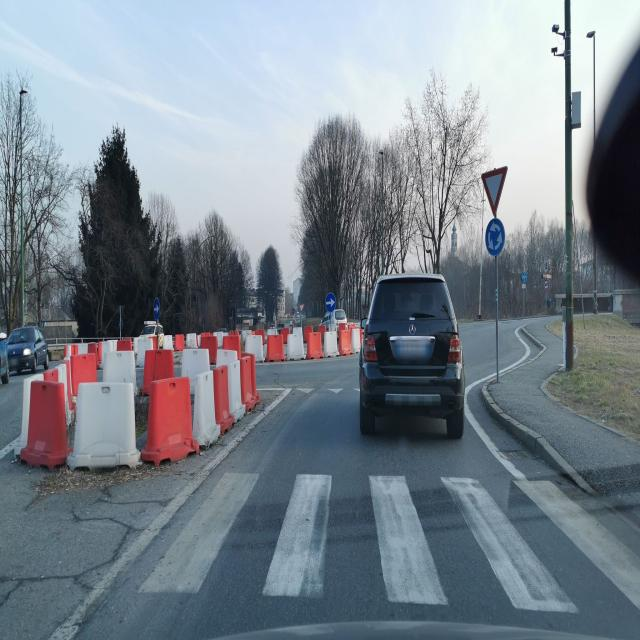car: (358, 272, 466, 438), (5, 325, 50, 374), (0, 332, 10, 391), (142, 320, 164, 336)
